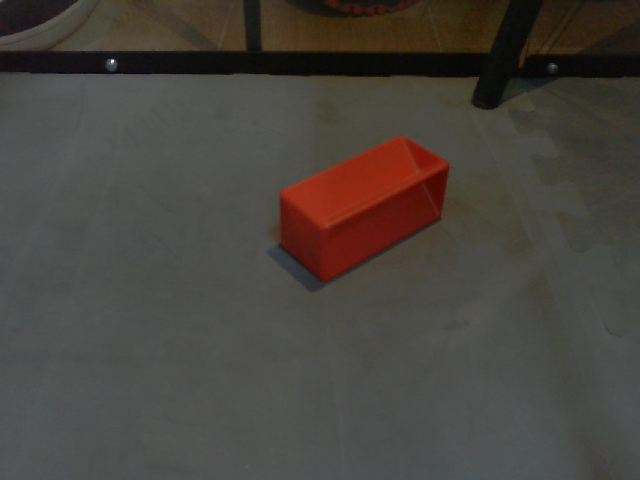RedSample: (275, 132, 454, 286)
